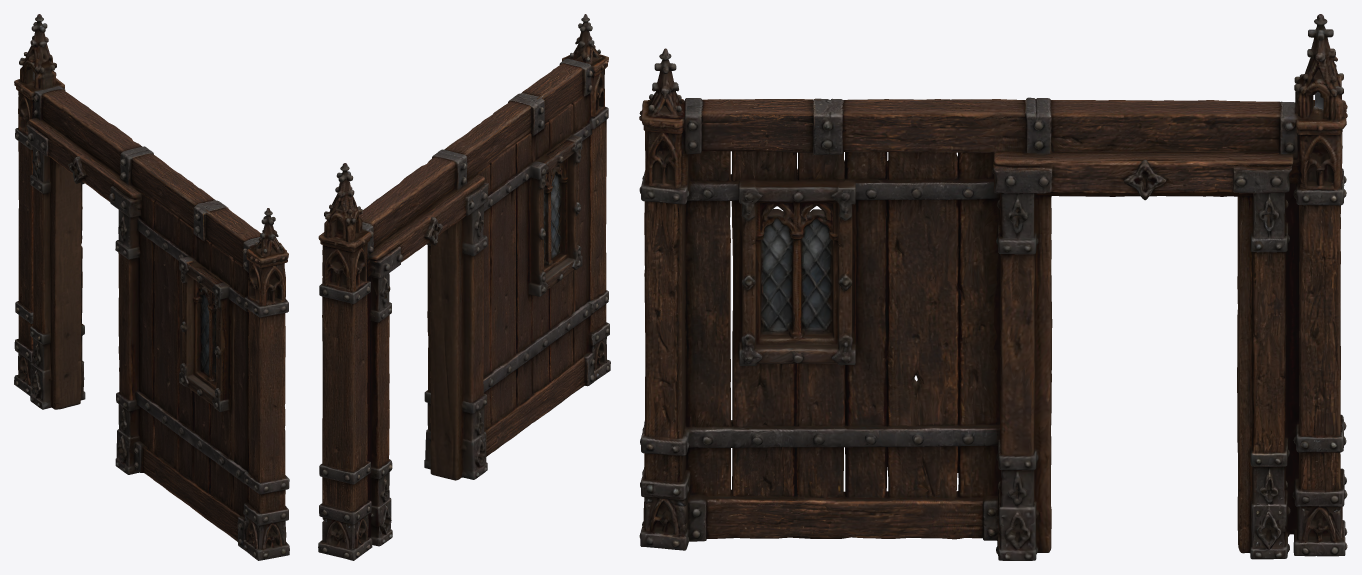
The model's file is raw_boothdoorwall.glb.
3 views of the same model, side by side, from view 1: azimuth 30°, elevation 25°; view 2: azimuth 150°, elevation 25°; view 3: azimuth 270°, elevation 25° (orthographic). The views are drawn at different scales.
Visible parts, largest first — view 1: boothdoorwall; view 2: boothdoorwall; view 3: boothdoorwall.
Boxes of the visible parts, x1,y1,x2,y2 form: boothdoorwall: (14, 14, 289, 560); boothdoorwall: (318, 14, 610, 560); boothdoorwall: (639, 14, 1347, 560).
Bounding box in the file's own units: 0.1273 × 0.8259 × 1.
1 material, 1 textured.
